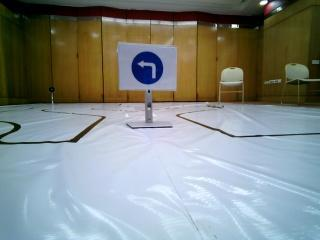left: (125, 49, 170, 90)
